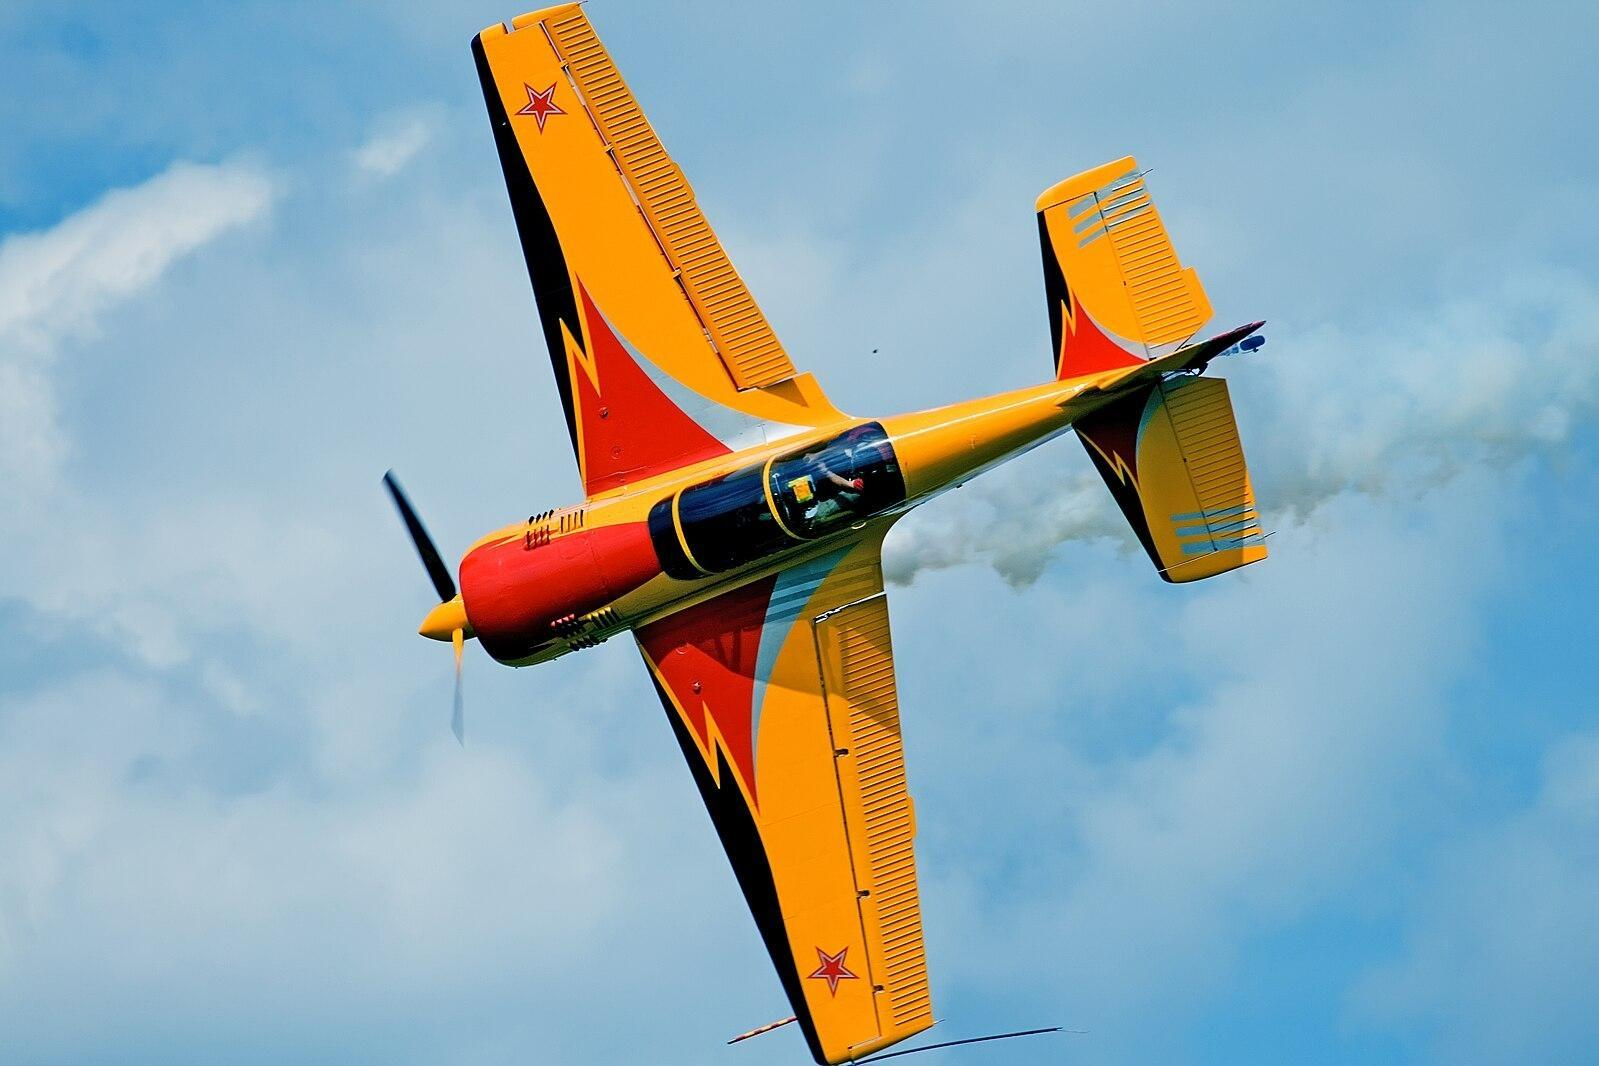Airplane: (372, 0, 1275, 1065)
